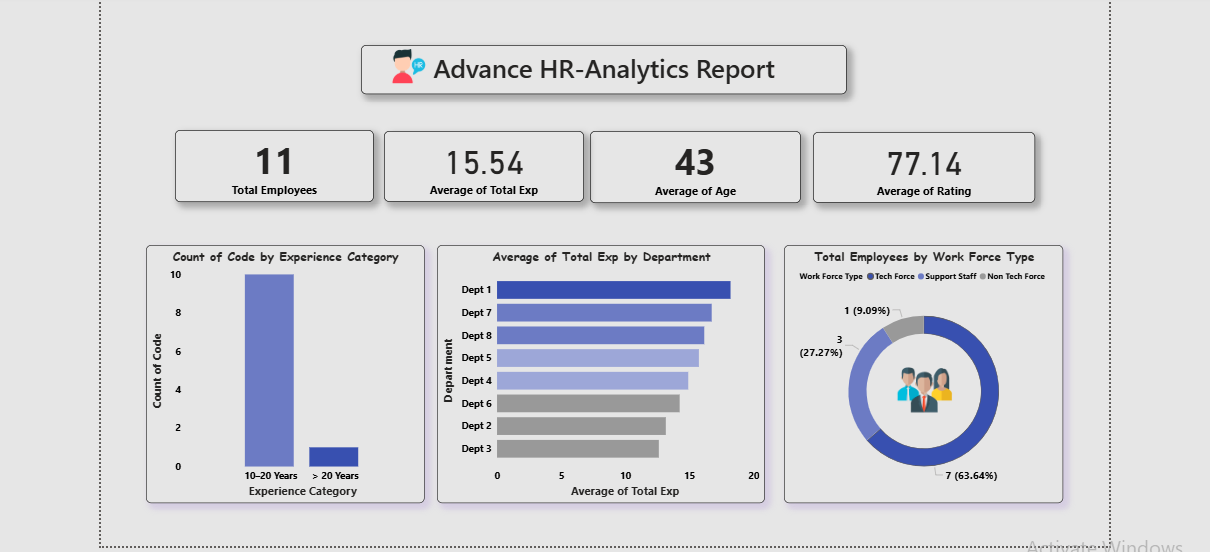

The dashboard page shown, as its layout file describes it:
{"tool":"powerbi","page":{"name":"HR overview","canvas":[1680,916],"ordinal":0},"visuals":[{"type":"group","id":"g1","title":"Group 1","box":[123.4,222.5,1432,121.5],"z":0},{"type":"card","fields":{"Values":["HR-data.Total Employees"]},"box":[123.4,222.5,330.9,119.6],"z":0,"group":"g1"},{"type":"clusteredColumnChart","fields":{"Category":["HR-data.Experience Category"],"Y":["CountNonNull(HR-data.Code)"]},"box":[74.8,415,463.6,430],"z":0,"group":"g2"},{"type":"card","fields":{"Values":["Avg(HR-data.Age)"]},"box":[815.1,224.4,351.4,119.6],"z":1000,"group":"g1"},{"type":"group","id":"g2","title":"Group 3","box":[74.8,415,1527.3,430],"z":1000},{"type":"barChart","fields":{"Category":["HR-data.Department"],"Y":["Avg(HR-data.Total Exp)"]},"box":[559,415,545.9,430],"z":1000,"group":"g2"},{"type":"group","id":"g3","title":"Group 4","box":[433.7,82.3,809.4,82.3],"z":2000},{"type":"card","fields":{"Values":["Avg(HR-data.Rating)"]},"box":[1185.2,226.2,370.1,117.8],"z":2000,"group":"g1"},{"type":"donutChart","fields":{"Y":["HR-data.Total Employees"],"Category":["HR-data.Work Force Type"]},"box":[1136.6,415,465.5,430],"z":2000,"group":"g4"},{"type":"group","id":"g4","title":"Group 5","box":[1136.6,415,465.5,430],"z":2001,"group":"g5"},{"type":"card","fields":{"Values":["Avg(HR-data.Total Exp)"]},"box":[471.1,224.4,332.8,117.8],"z":3000,"group":"g1"},{"type":"textbox","box":[433.7,82.3,809.4,82.3],"z":4000,"group":"g3"},{"type":"image","box":[462.3,83.8,102.8,67.3],"z":5000,"group":"g3"},{"type":"image","box":[1316.1,605.7,108.4,102.8],"z":6000,"group":"g4"},{"type":"group","id":"g5","title":"Group 2","box":[1136.6,415,465.5,430],"z":6001,"group":"g2"}]}

Visuals, with their boxes on the page's 1680x916 design canvas (x1, y1, x2, y2). These are canvas units, not pixel positions in the 1210x552 screenshot, which may show the page scaled, cropped or inside an application window:
"Group 1" group: left=123, top=222, right=1555, bottom=344
card - HR-data.Total Employees: left=123, top=222, right=454, bottom=342
clusteredColumnChart - HR-data.Experience Category x CountNonNull(HR-data.Code): left=75, top=415, right=538, bottom=845
card - Avg(HR-data.Age): left=815, top=224, right=1166, bottom=344
"Group 3" group: left=75, top=415, right=1602, bottom=845
barChart - HR-data.Department x Avg(HR-data.Total Exp): left=559, top=415, right=1105, bottom=845
"Group 4" group: left=434, top=82, right=1243, bottom=165
card - Avg(HR-data.Rating): left=1185, top=226, right=1555, bottom=344
donutChart - HR-data.Total Employees x HR-data.Work Force Type: left=1137, top=415, right=1602, bottom=845
"Group 5" group: left=1137, top=415, right=1602, bottom=845
card - Avg(HR-data.Total Exp): left=471, top=224, right=804, bottom=342
textbox: left=434, top=82, right=1243, bottom=165
image: left=462, top=84, right=565, bottom=151
image: left=1316, top=606, right=1424, bottom=708
"Group 2" group: left=1137, top=415, right=1602, bottom=845
